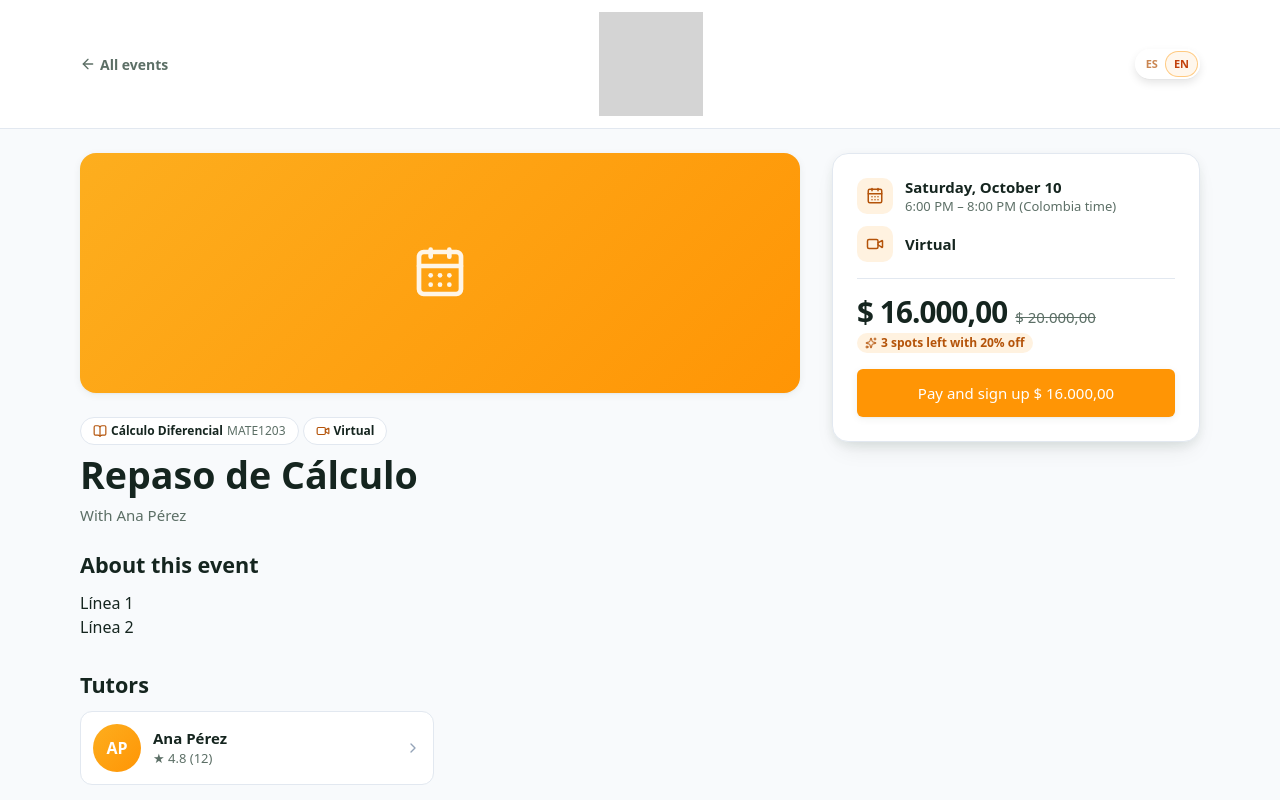
Test: EventDetailView › paid registration › APPROVED → confirm-payment → success
Click the button "Pay and sign up $ 16.000,00" at (1016, 393), box [857, 369, 1175, 417]
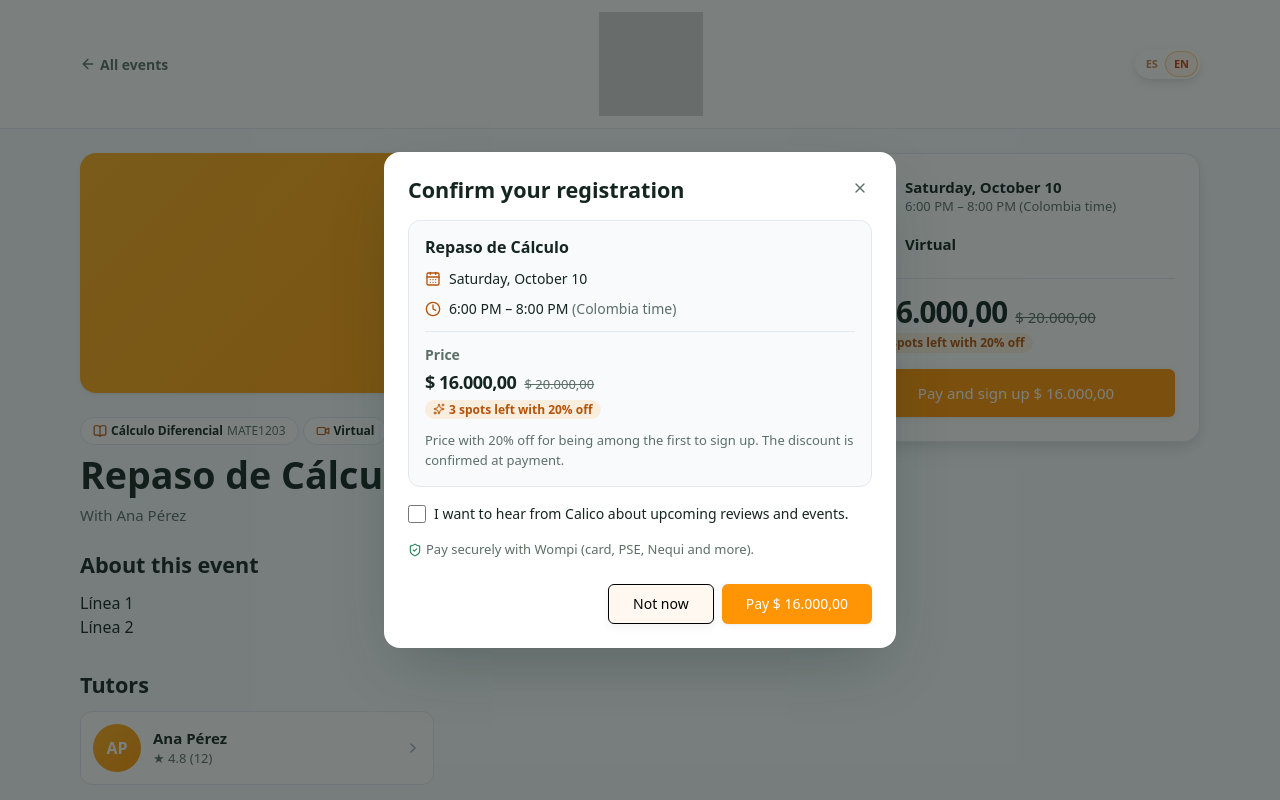
Click the button "Pay $ 16.000,00" at (797, 604), box [722, 584, 872, 624]
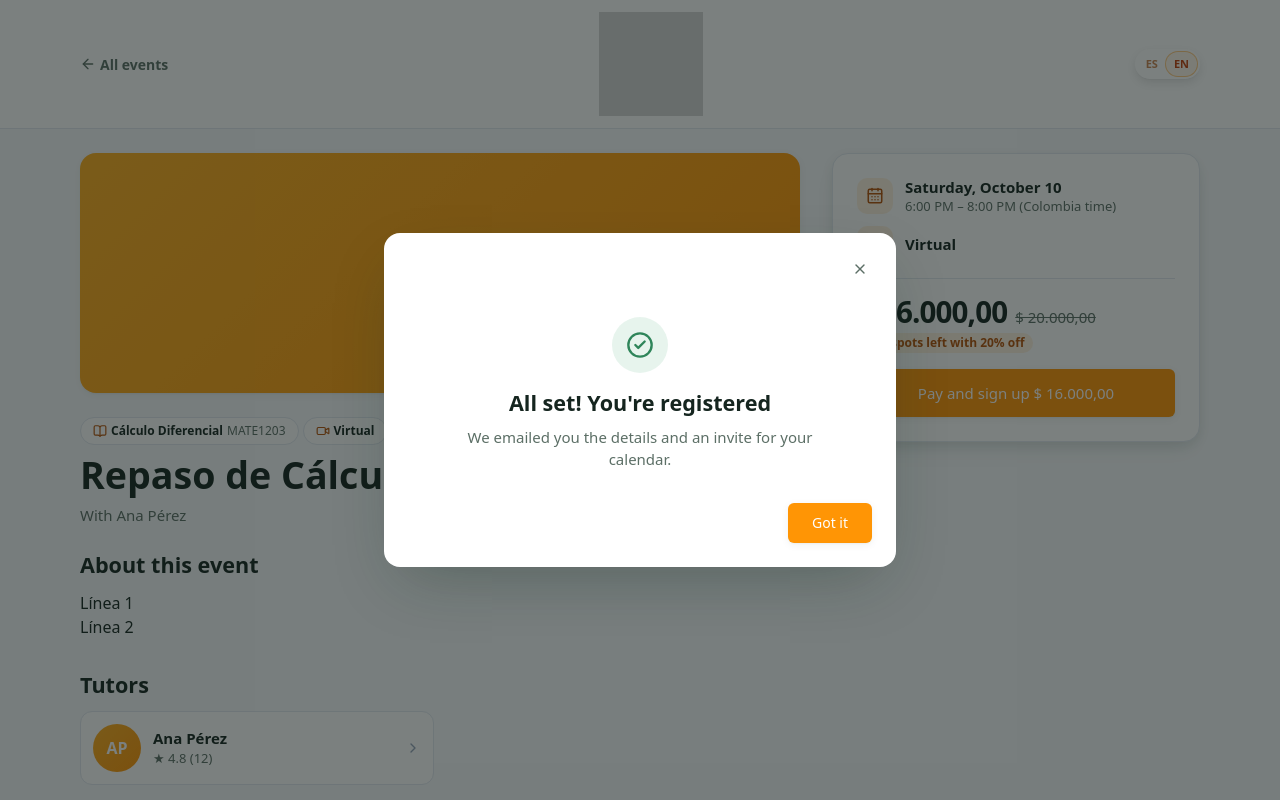
Expected: the heading "All set! You're registered" is shown, [509, 390, 771, 418]
